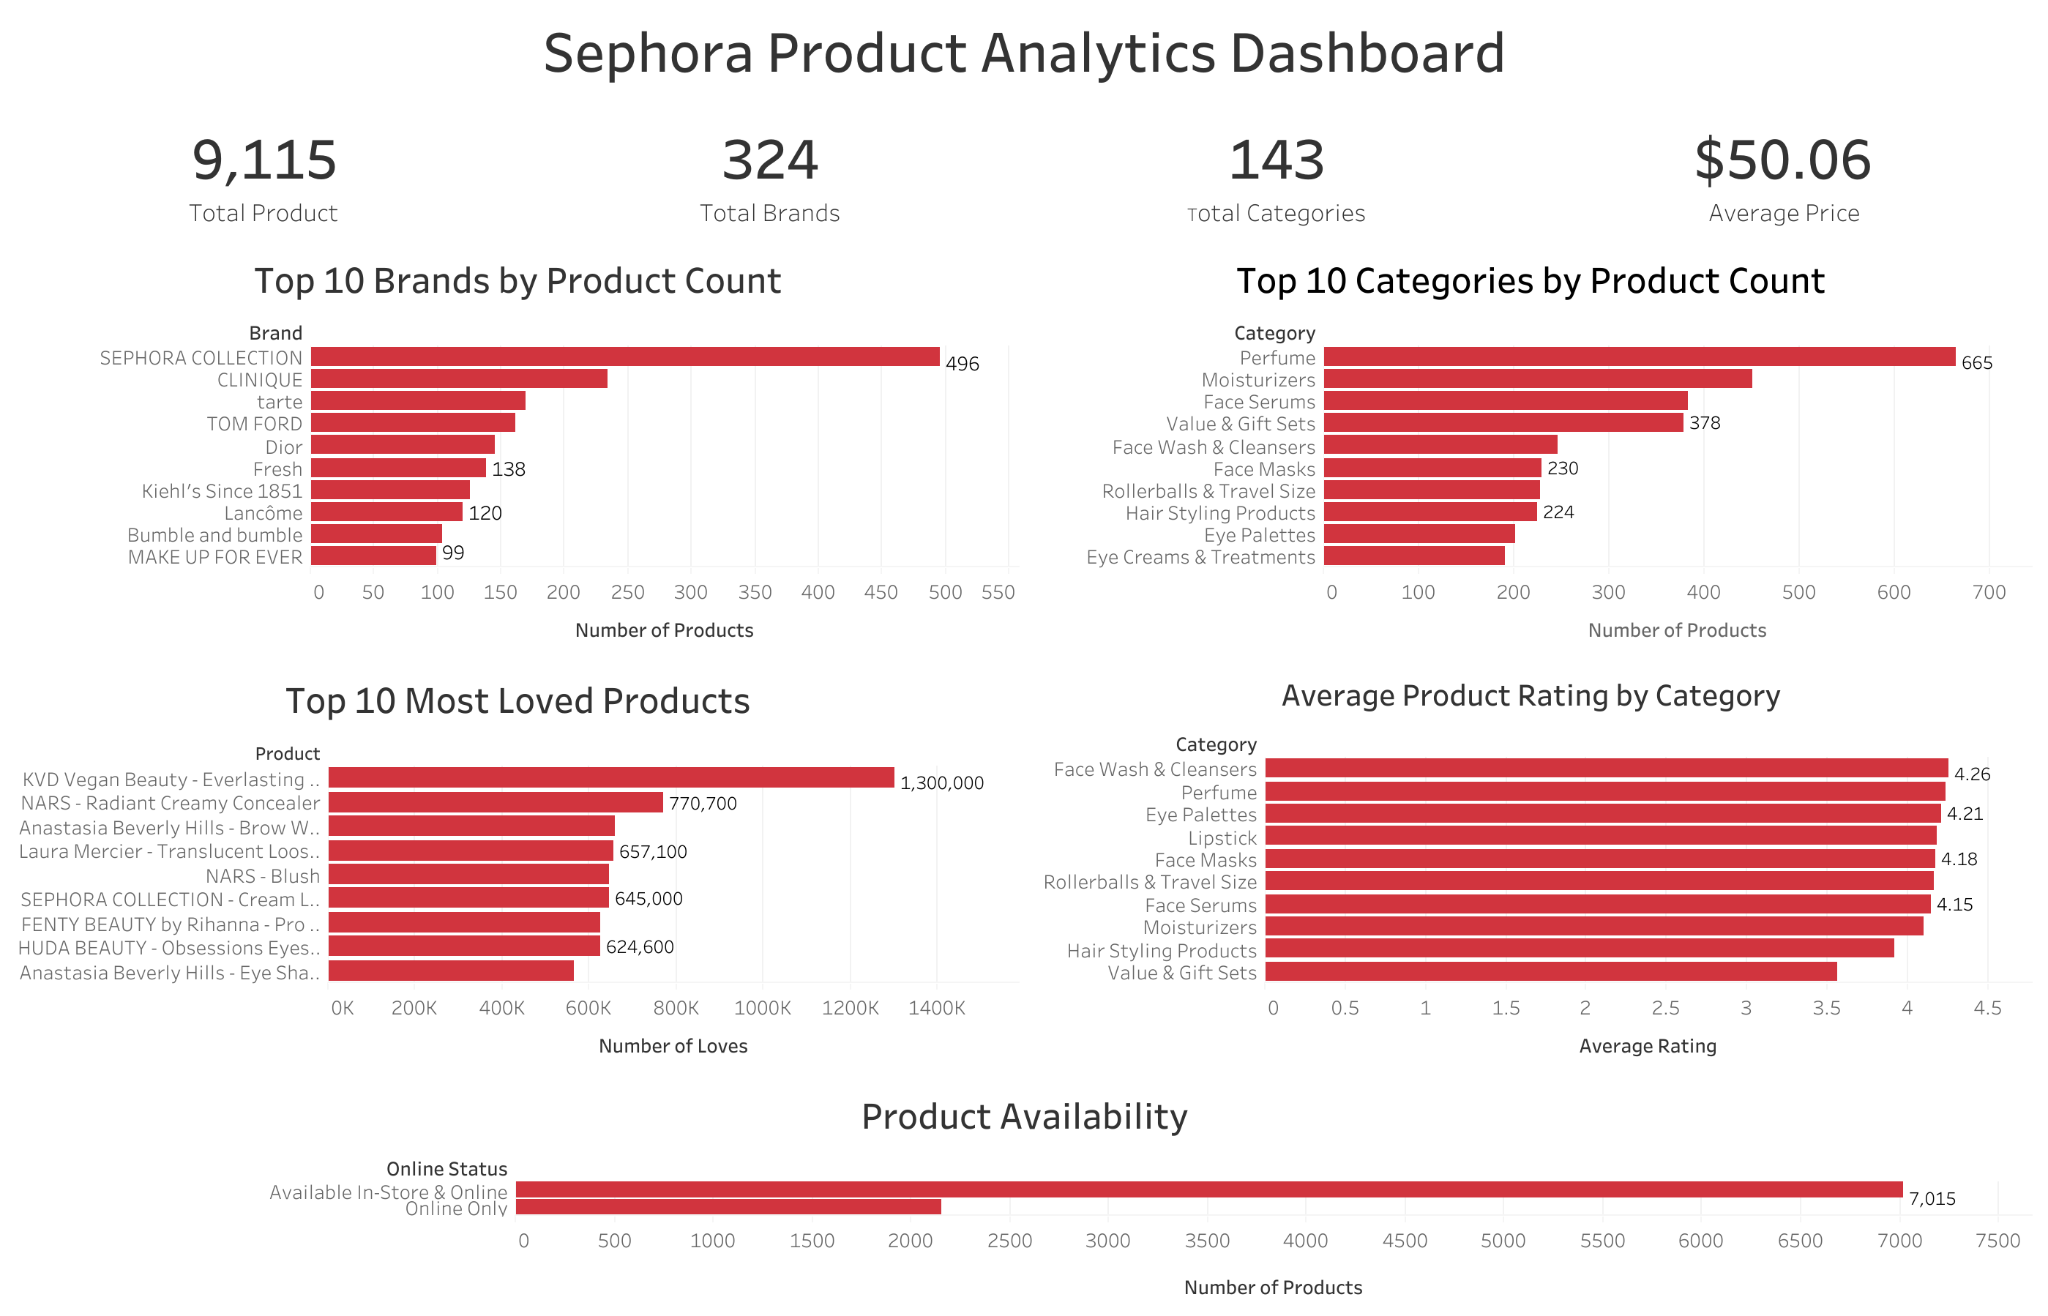

The page's visual inventory and layout, read from the dashboard file:
{"tool":"tableau","page":{"name":"Sephora Product Analytics Dashboard","canvas":[1400,900],"ordinal":0},"visuals":[{"type":"title","box":[8,8,1384,59]},{"type":"worksheet","title":"Total Products KPI","mark":"Automatic","box":[8,67,346,96]},{"type":"worksheet","title":"Total Brands KPI","mark":"Automatic","box":[354,67,346,96]},{"type":"worksheet","title":"Total Categories KPI","mark":"Automatic","box":[700,67,346,96]},{"type":"worksheet","title":"Average Price KPI","mark":"Automatic","box":[1046,67,346,96]},{"type":"worksheet","title":"Top Brands","mark":"Bar","rows":["brand"],"cols":["brand"],"box":[8,163,692,287]},{"type":"worksheet","title":"Top Categories","mark":"Automatic","rows":["category"],"cols":["category"],"box":[700,163,692,287]},{"type":"worksheet","title":"Top Loved Products","mark":"Automatic","rows":["Calculation_0332829225725954"],"cols":["love"],"box":[8,450,692,284]},{"type":"worksheet","title":"Average Rating by Category","mark":"Automatic","rows":["category"],"cols":["rating"],"box":[700,450,692,284]},{"type":"worksheet","title":"Online Only Products","mark":"Automatic","rows":["Calculation_0332829233238020"],"cols":["id"],"box":[8,734,1384,158]}]}

Visuals, with their boxes in screenshot pixels (x1, y1, x2, y2), scaled from the page's 1400x900 canvas onto the 2048x1316 screenshot:
title: [12,12,2036,98]
"Total Products KPI" worksheet: [12,98,518,238]
"Total Brands KPI" worksheet: [518,98,1024,238]
"Total Categories KPI" worksheet: [1024,98,1530,238]
"Average Price KPI" worksheet: [1530,98,2036,238]
"Top Brands" worksheet (Bar marks): [12,238,1024,658]
"Top Categories" worksheet: [1024,238,2036,658]
"Top Loved Products" worksheet: [12,658,1024,1073]
"Average Rating by Category" worksheet: [1024,658,2036,1073]
"Online Only Products" worksheet: [12,1073,2036,1304]
